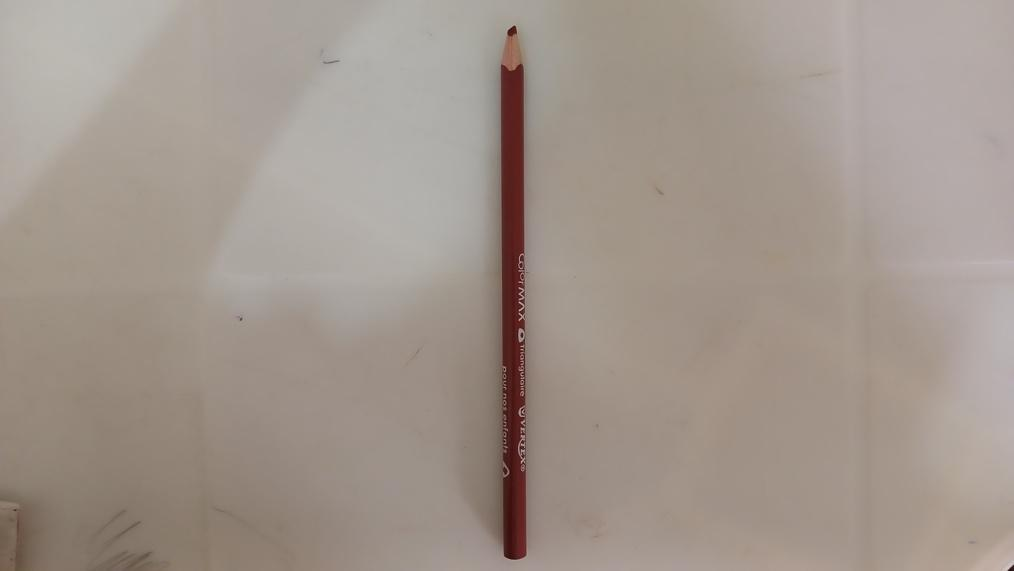Pencil: (501, 22, 527, 567)
